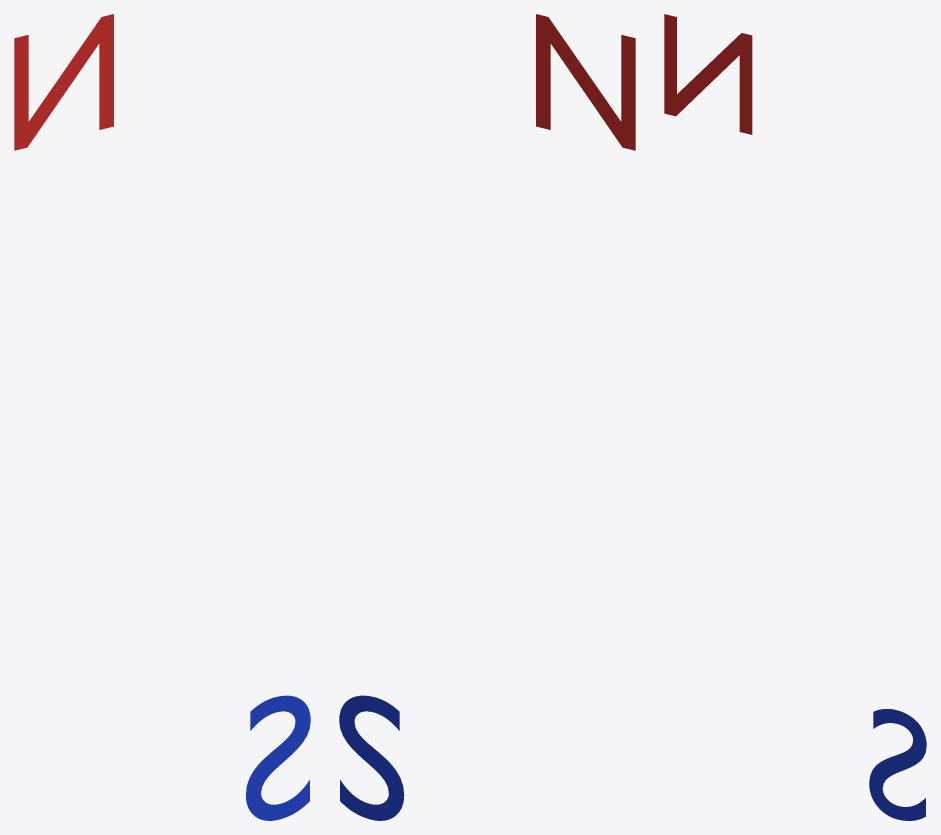
The model's file is norte-sur.glb.
The picture shows the model from 3 angles, left to right: view 1: azimuth 30°, elevation 25°; view 2: azimuth 150°, elevation 25°; view 3: azimuth 330°, elevation 25°; orthographic projection. The views are drawn at different scales.
Parts seen in each view (by area): view 1: Text.002, Text.003; view 2: Text.002, Text.003; view 3: Text.002, Text.003.
Part boxes in pixels (<box>): Text.002: <box>14,14,113,150</box>; Text.003: <box>245,695,310,820</box>; Text.002: <box>536,14,635,150</box>; Text.003: <box>339,695,404,820</box>; Text.002: <box>664,14,752,134</box>; Text.003: <box>869,709,926,820</box>.
Size of the model in its own units: 2.42 by 6.59 by 1.39e-07.
